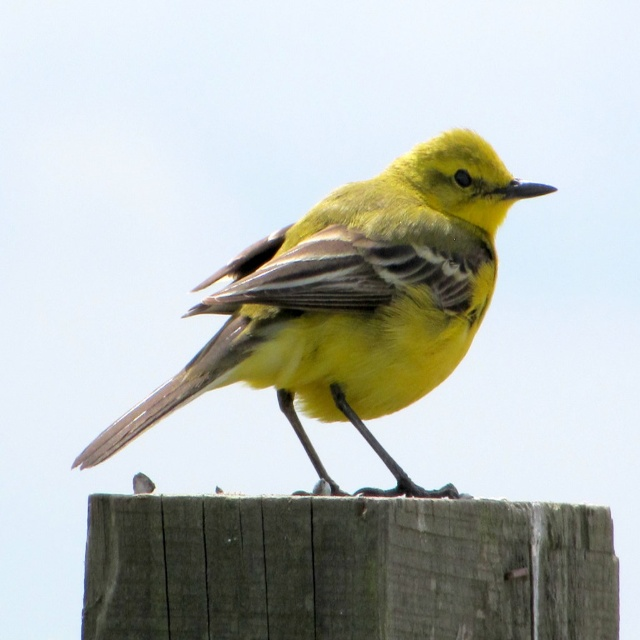Canary: (58, 127, 546, 496)
